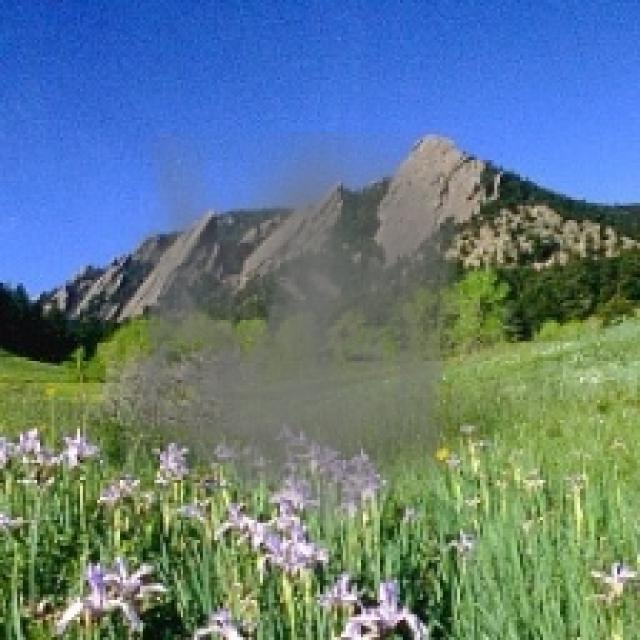Smoke: (117, 132, 469, 548)
